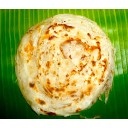parota: (16, 16, 112, 112)
